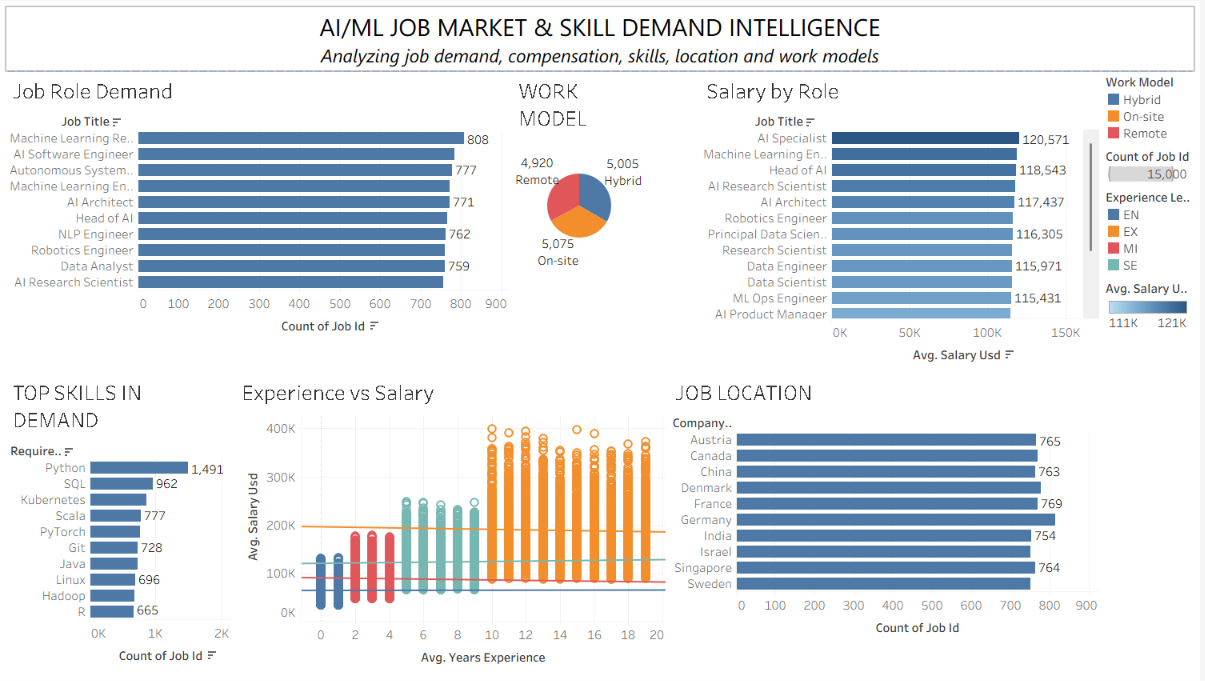

This screenshot's page, from the dashboard's own definition file:
{"tool":"tableau","page":{"name":"Dashboard 2","canvas":[1500,850],"ordinal":0},"visuals":[{"type":"title","box":[8,8,1484,79]},{"type":"worksheet","title":"Job Role Demand","mark":"Automatic","rows":["job_title"],"cols":["job_id"],"box":[8,87,632,377.5]},{"type":"worksheet","title":"WORK MODEL","mark":"Pie","box":[640,87,235,377.5]},{"type":"worksheet","title":"Salary by Role","mark":"Automatic","rows":["job_title"],"cols":["salary_usd"],"box":[875,87,503,377.5]},{"type":"legend","title":"WORK MODEL","param":"[federated.0sh8tv216r4r5y10n2hyi16k3q62].[none:Calculation_1147942407794689:nk]","box":[1378,87,114,93]},{"type":"legend","title":"WORK MODEL","param":"[federated.0sh8tv216r4r5y10n2hyi16k3q62].[cnt:job_id:qk]","box":[1378,180,114,51]},{"type":"legend","title":"Experience vs Salary","param":"[federated.0sh8tv216r4r5y10n2hyi16k3q62].[none:experience_level:nk]","box":[1378,231,114,114]},{"type":"legend","title":"Salary by Role","param":"[federated.0sh8tv216r4r5y10n2hyi16k3q62].[avg:salary_usd:qk]","box":[1378,345,114,73]},{"type":"worksheet","title":"TOP SKILLS IN DEMAND","mark":"Automatic","rows":["required_skills - Split 1"],"cols":["job_id"],"box":[8,464.5,285.7,377.5]},{"type":"worksheet","title":"Experience vs Salary","mark":"Automatic","rows":["salary_usd"],"cols":["years_experience"],"box":[293.7,464.5,542.2,377.5]},{"type":"worksheet","title":"JOB LOCATION","mark":"Automatic","rows":["company_location"],"cols":["job_id"],"box":[835.8,464.5,542.2,377.5]}]}

Visuals, with their boxes in screenshot pixels (x1, y1, x2, y2), scaled from the page's 1500x850 canvas onto the 1205x681 screenshot:
title: BBox(6, 6, 1199, 70)
"Job Role Demand" worksheet: BBox(6, 70, 514, 372)
"WORK MODEL" worksheet (Pie marks): BBox(514, 70, 703, 372)
"Salary by Role" worksheet: BBox(703, 70, 1107, 372)
"WORK MODEL" legend: BBox(1107, 70, 1199, 144)
"WORK MODEL" legend: BBox(1107, 144, 1199, 185)
"Experience vs Salary" legend: BBox(1107, 185, 1199, 276)
"Salary by Role" legend: BBox(1107, 276, 1199, 335)
"TOP SKILLS IN DEMAND" worksheet: BBox(6, 372, 236, 675)
"Experience vs Salary" worksheet: BBox(236, 372, 672, 675)
"JOB LOCATION" worksheet: BBox(671, 372, 1107, 675)
